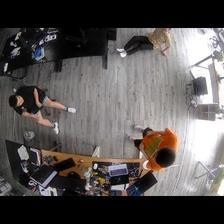fall: (118, 28, 175, 61)
normal: (125, 121, 179, 170)
